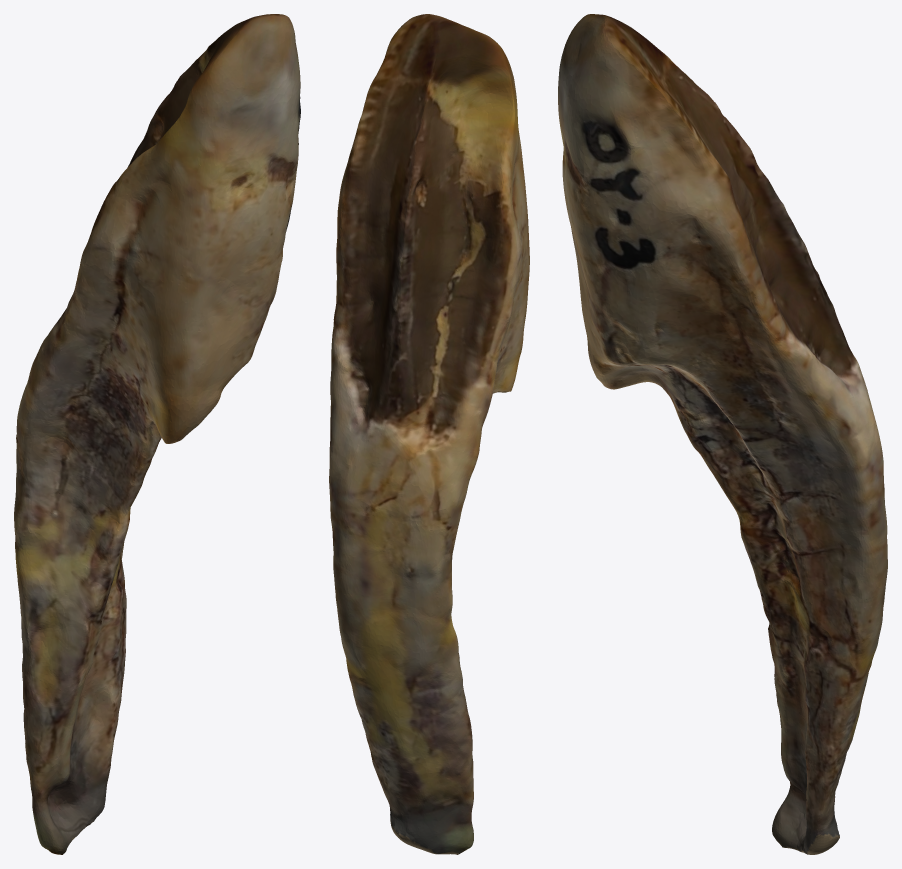
File: 2-4_Iguanodont_dinosaur_tooth.glb
3 renders of one model, left to right at view 1: azimuth 30°, elevation 25°; view 2: azimuth 150°, elevation 25°; view 3: azimuth 270°, elevation 25°, orthographic. The views are drawn at different scales.
Parts seen in each view (by area): view 1: Mesh 3; view 2: Mesh 3; view 3: Mesh 3.
Part boxes in pixels (left/top/right/bottom): Mesh 3: left=14, top=14, right=300, bottom=854; Mesh 3: left=329, top=14, right=529, bottom=854; Mesh 3: left=558, top=14, right=887, bottom=854.
Size of the model in its own units: 0.1286 by 0.5466 by 0.1854.
1 material, 1 textured.
